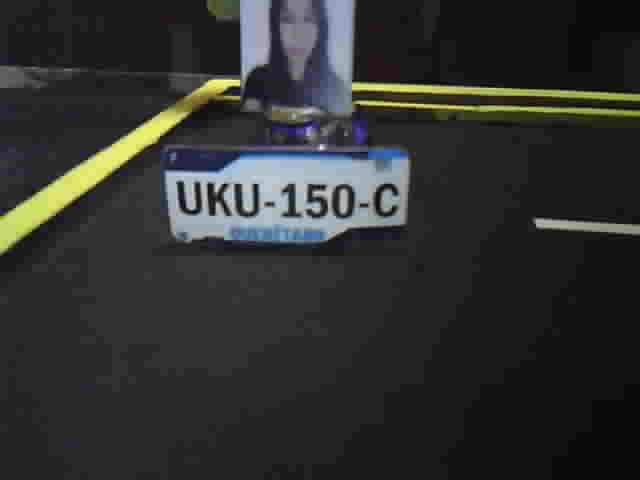PLACA: (160, 142, 412, 247)
ROSTRO: (245, 1, 350, 108)
